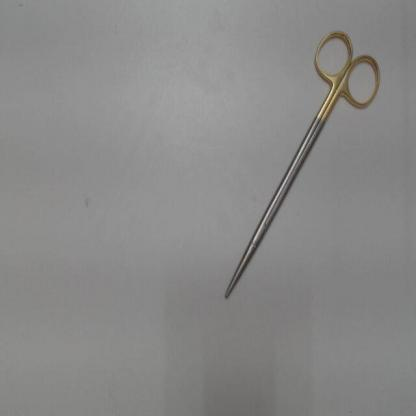7 Metzenbaum Scissors: (220, 25, 385, 304)
